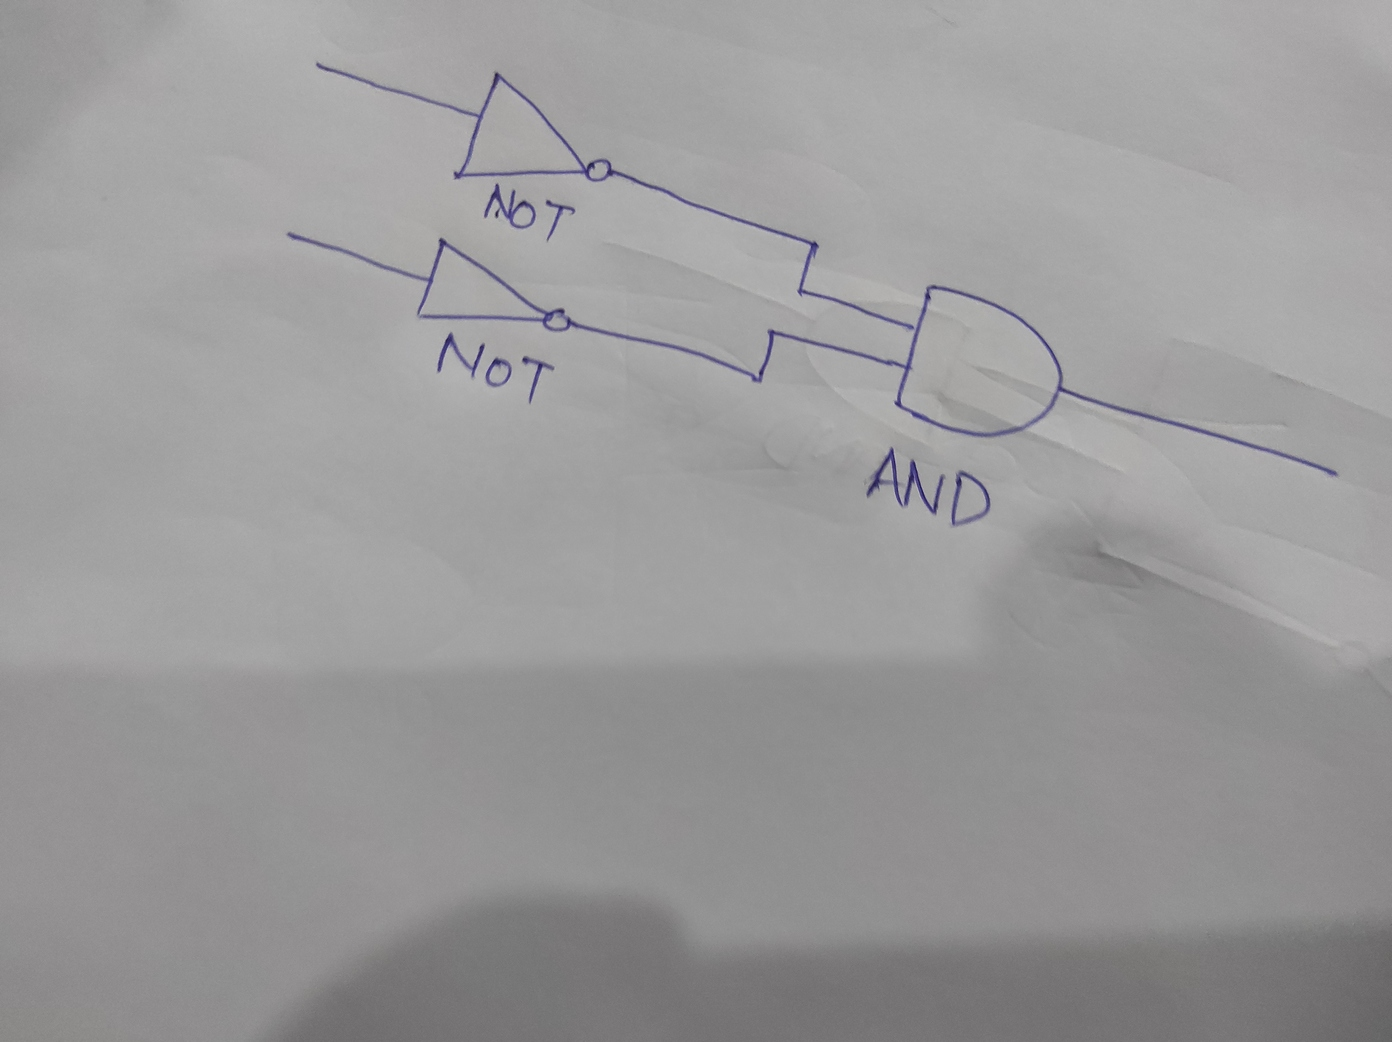and: (891, 280, 1069, 442)
junction: (801, 233, 823, 259), (749, 369, 768, 390), (791, 282, 810, 302), (762, 323, 779, 341)
not: (448, 68, 615, 185), (414, 236, 575, 334)
terminal: (272, 223, 308, 253), (303, 55, 335, 80), (1322, 460, 1350, 485)
text: (865, 443, 994, 531), (432, 331, 555, 407), (479, 180, 578, 244)
